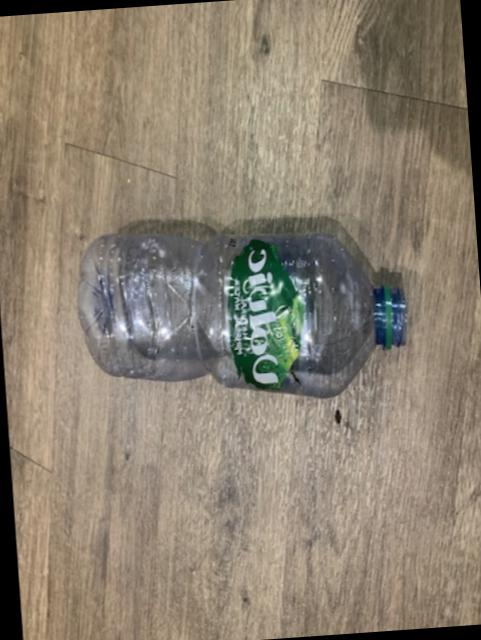plastic: (79, 232, 406, 394)
